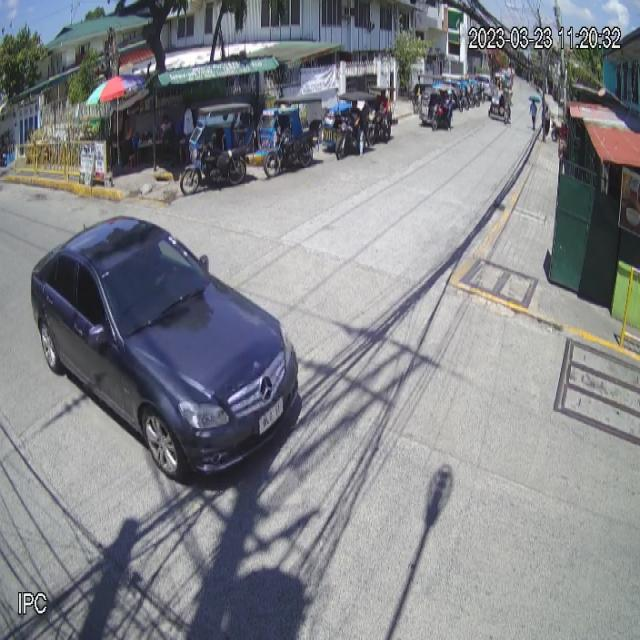Car: (31, 215, 300, 484)
Tricycle: (180, 103, 255, 197)
